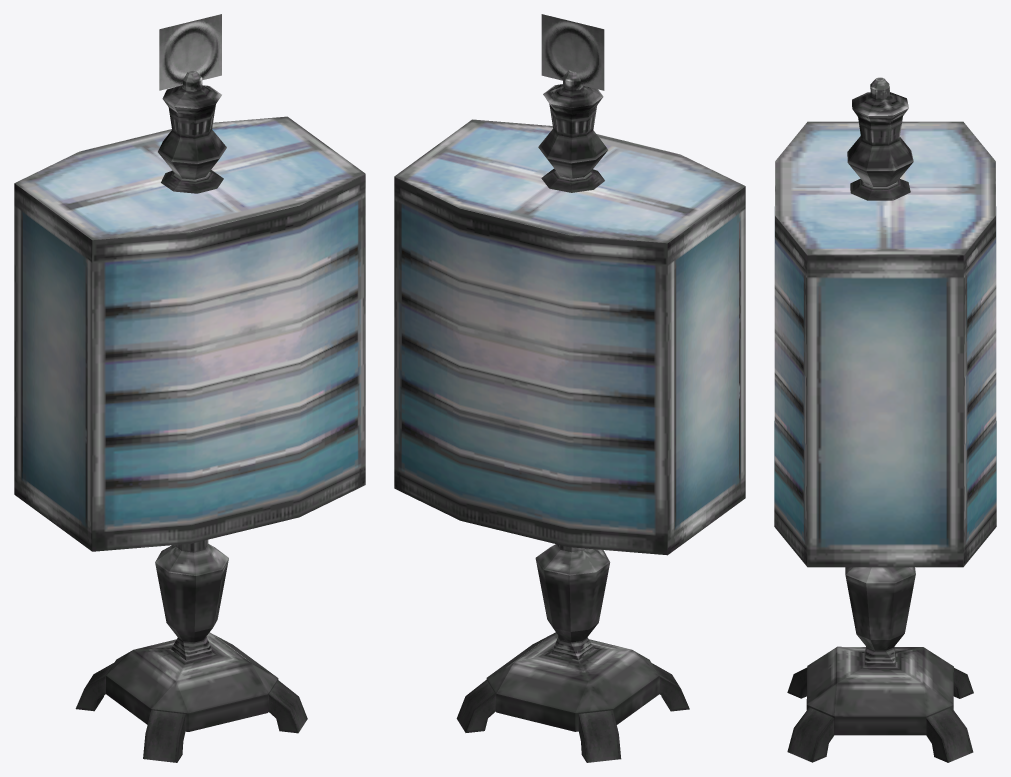
The model's file is furni_0201101_03.FBX.
3 renders of one model, left to right at view 1: azimuth 30°, elevation 25°; view 2: azimuth 150°, elevation 25°; view 3: azimuth 270°, elevation 25°, orthographic.
Parts seen in each view (by area): view 1: furni_0201101_03; view 2: furni_0201101_03; view 3: furni_0201101_03.
Part boxes in pixels (x1,y1,x2,y2): furni_0201101_03: (14, 14, 365, 762); furni_0201101_03: (394, 14, 745, 762); furni_0201101_03: (774, 77, 996, 762).
Size of the model in its own units: 29.94 by 72.48 by 21.06.
Materials: 1 (1 with a texture image).
